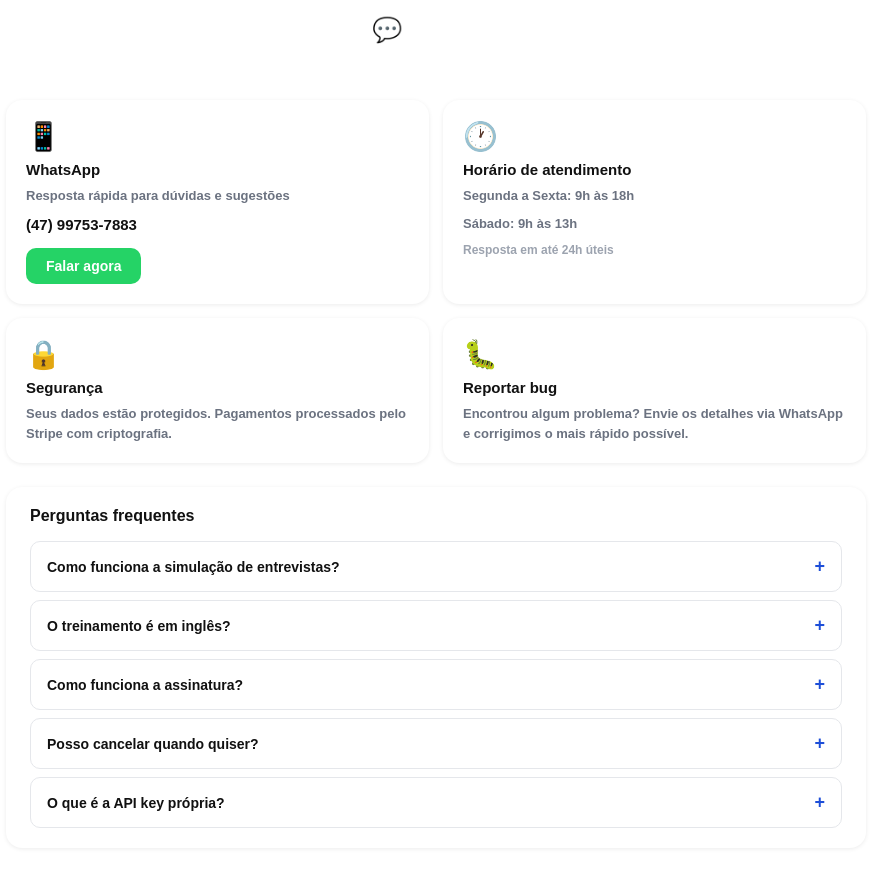
Scenario: SupportView › expands the answer when clicking a question and collapses it on a second click
Click the 1st element with class "faq-question". click: (193, 566)
box: [47, 556, 825, 576]
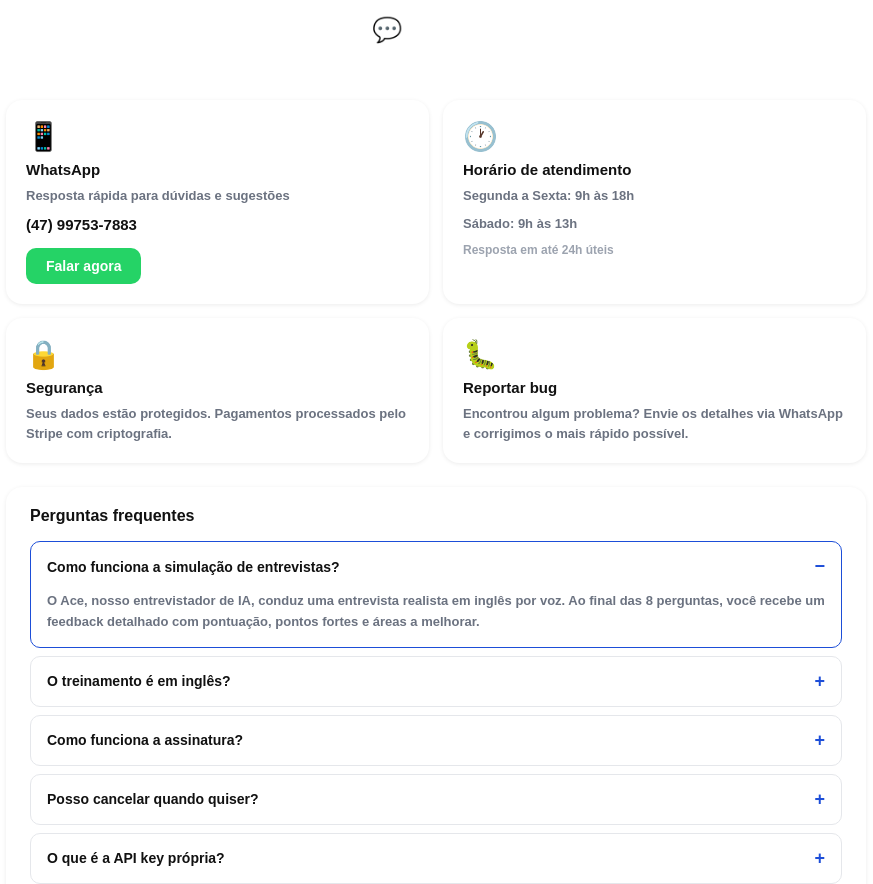
expect the number of elements with class "faq-answer" is 1: met, box [31, 591, 841, 647]
Click the 1st element with class "faq-question". click: (193, 566)
box: [47, 556, 825, 576]
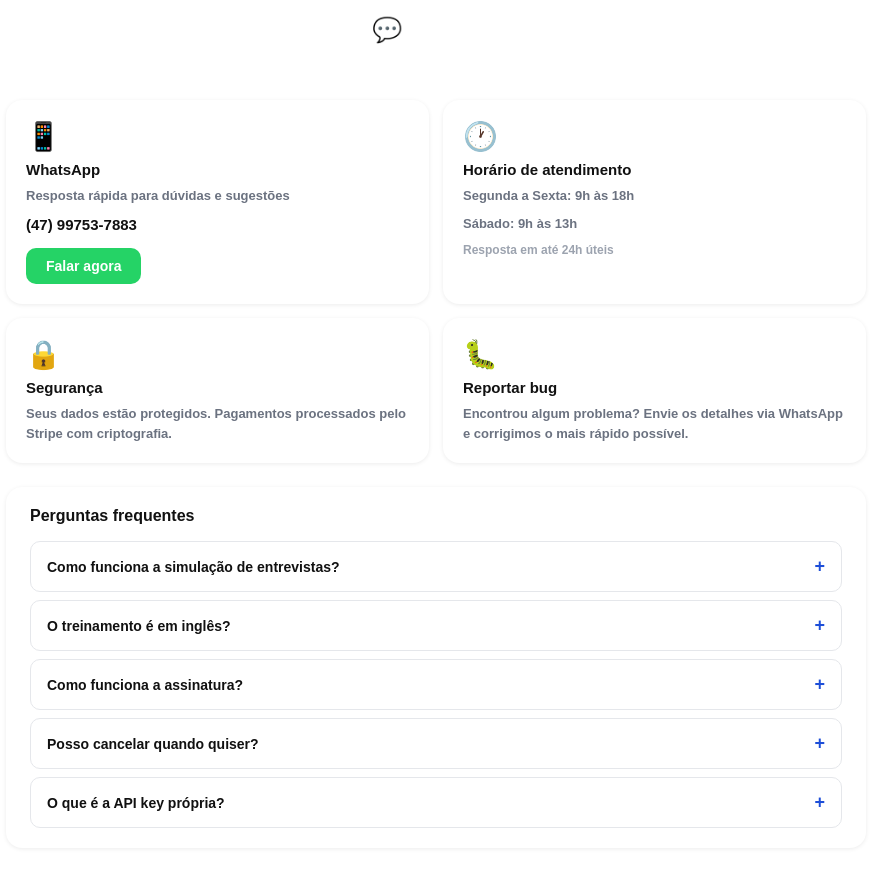
expect no elements with class "faq-answer" are shown: met
